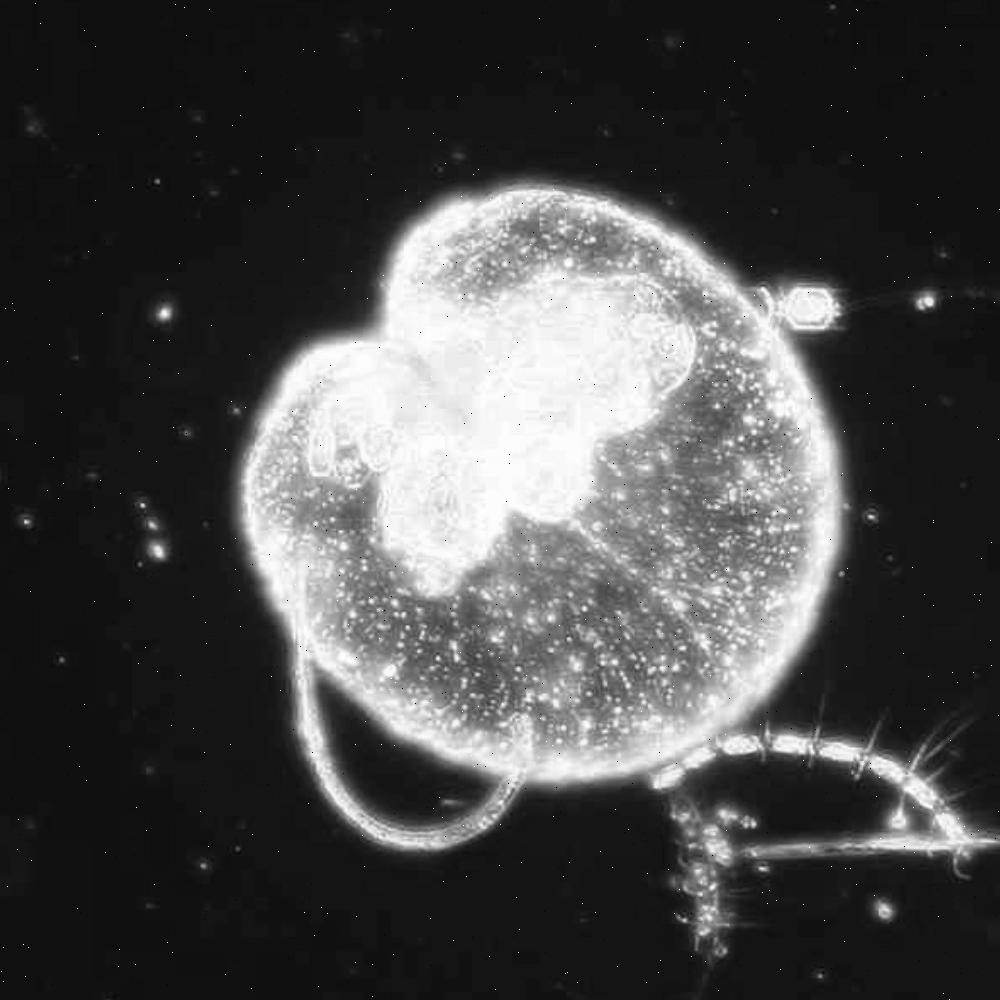noctilluca_scintillans: (248, 186, 842, 857)
